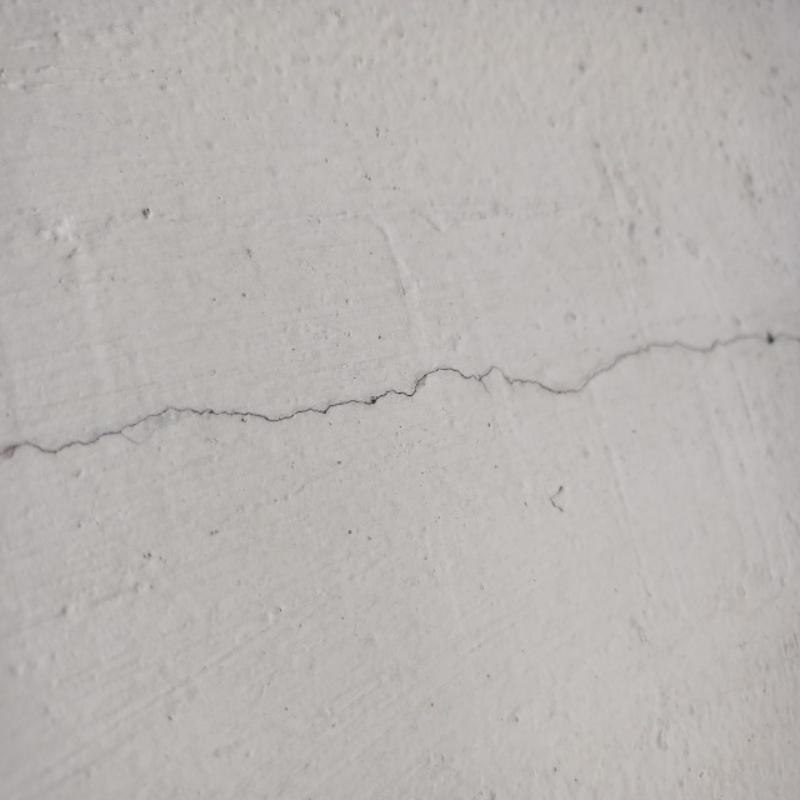pothole: (4, 327, 796, 464)
